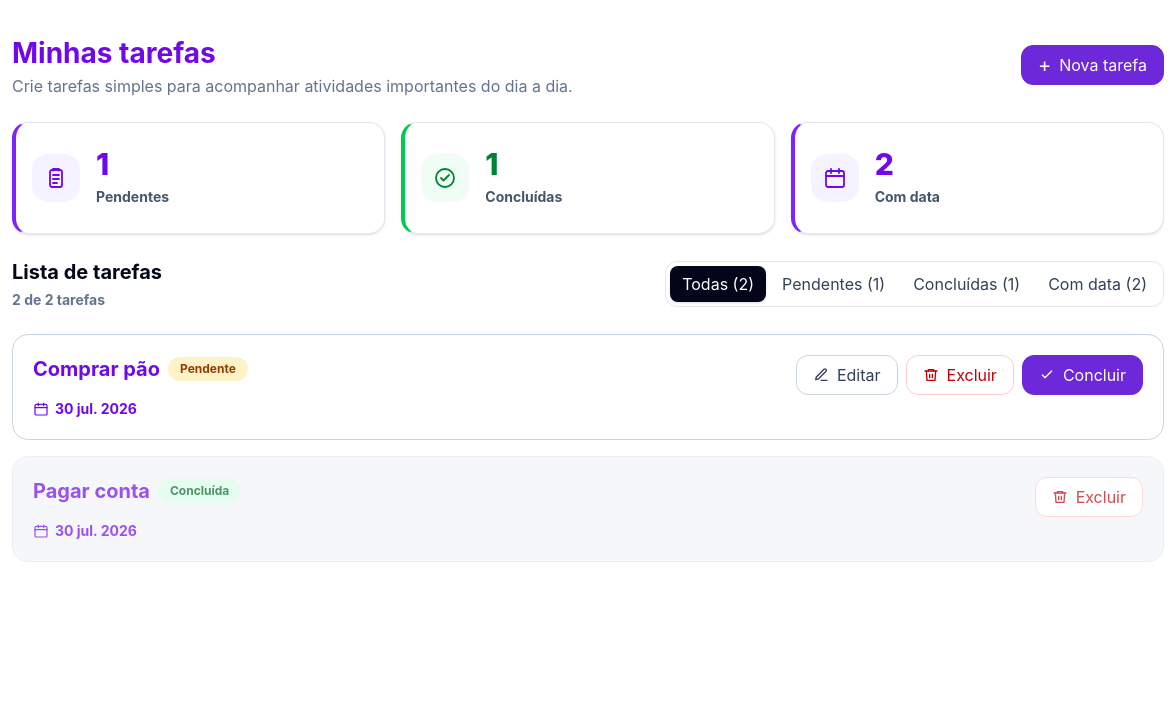
TaskPage integration › filtra tarefas concluídas e preserva as ações permitidas
This screenshot has width=1176, height=720.
Click the button "Concluídas (1)" at (967, 284), box [901,266,1032,302]
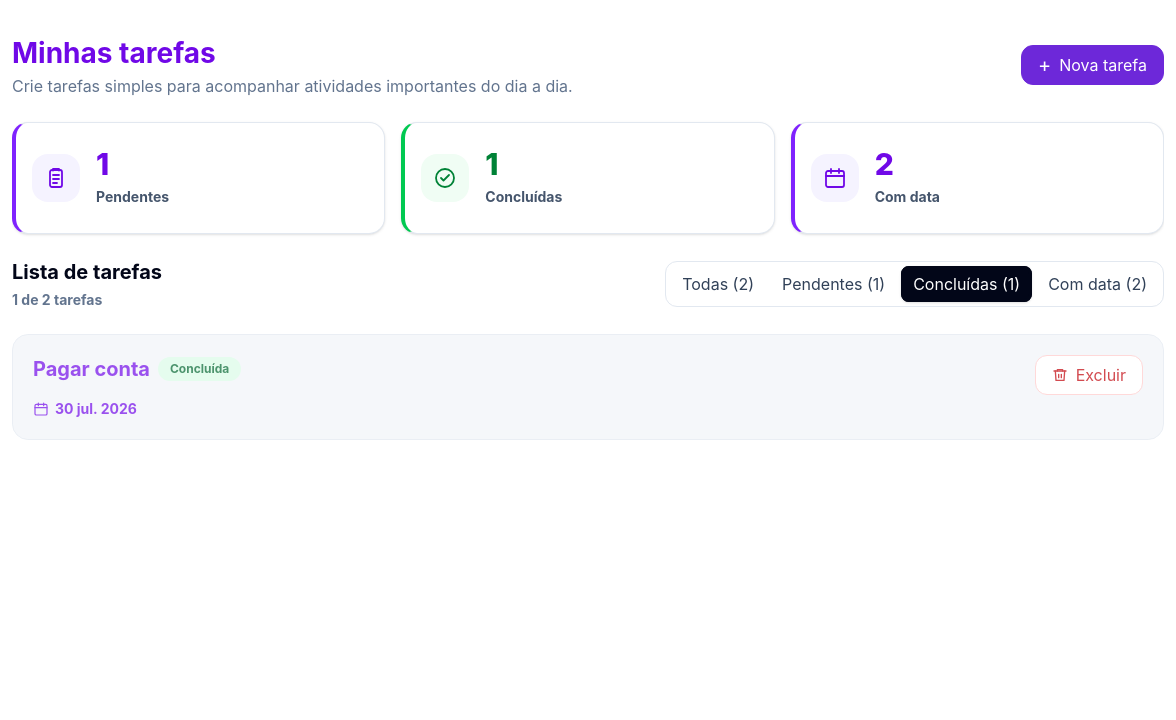
Expected: the heading "Pagar conta" is shown, [33,355,150,383]
Expected: the heading "Comprar pão" is gone
Expected: the button "Editar" is gone
